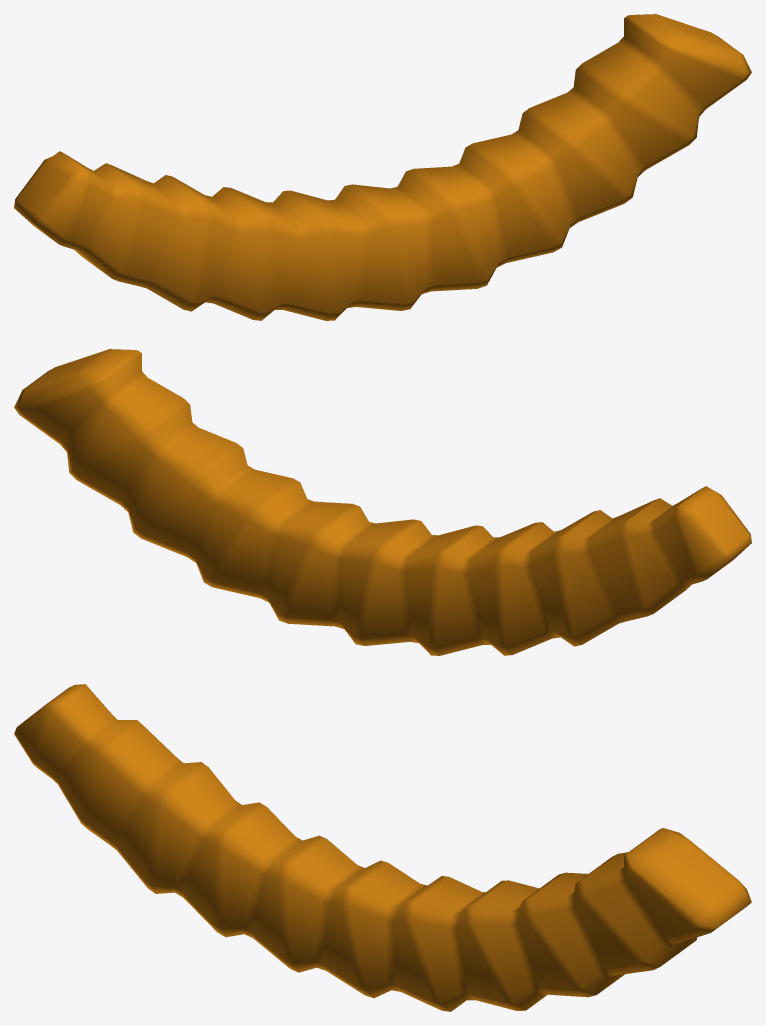
File: canesfry-simp5-2.obj
The picture shows the model from 3 angles, top to bottom: view 1: azimuth 30°, elevation 25°; view 2: azimuth 150°, elevation 25°; view 3: azimuth 330°, elevation 25°; orthographic projection.
Parts seen in each view (by area): view 1: Cube.003; view 2: Cube.003; view 3: Cube.003.
Part boxes in pixels (bbox=[...]): Cube.003: bbox=[14, 14, 751, 320]; Cube.003: bbox=[14, 349, 751, 655]; Cube.003: bbox=[14, 684, 751, 1011].
Size of the model in its own units: 44.54 by 12.82 by 5.17.
